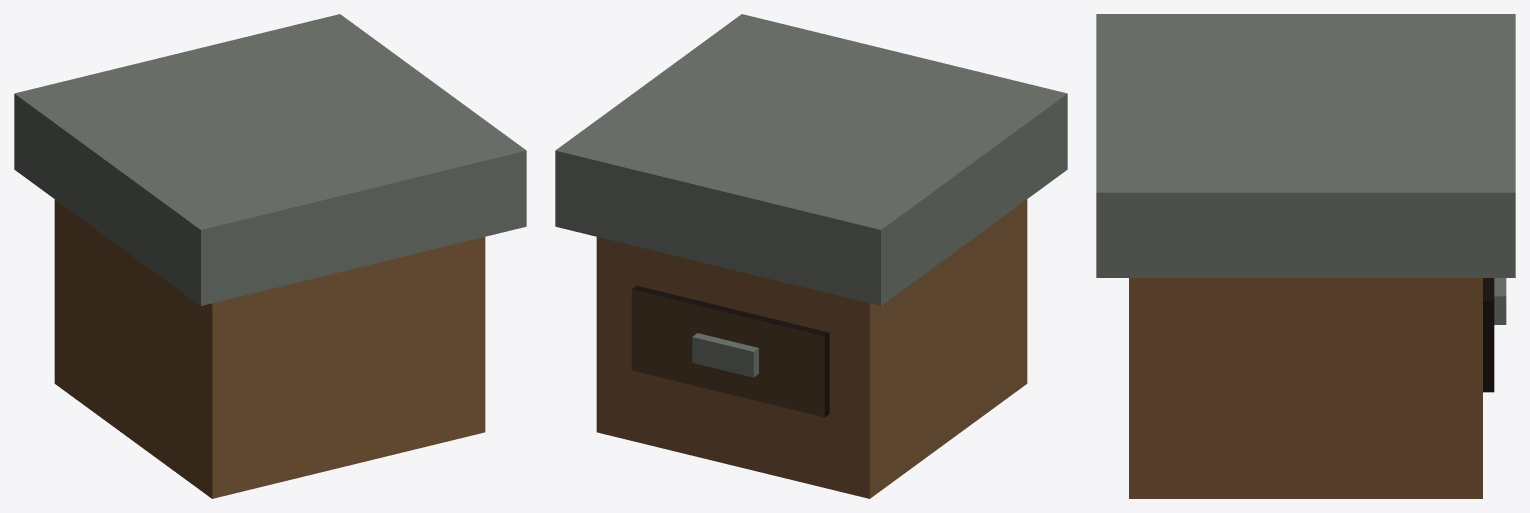
File: WorkBench.fbx
3 views of the same model, side by side, from view 1: azimuth 30°, elevation 25°; view 2: azimuth 150°, elevation 25°; view 3: azimuth 270°, elevation 25° (orthographic). The views are drawn at different scales.
Parts seen in each view (by area): view 1: Cube; view 2: Cube; view 3: Cube.
Part boxes in pixels (x1,y1,x2,y2): Cube: [14, 14, 526, 498]; Cube: [555, 14, 1067, 498]; Cube: [1096, 14, 1515, 498].
Bounding box in the file's own units: 239 × 200 × 237.
